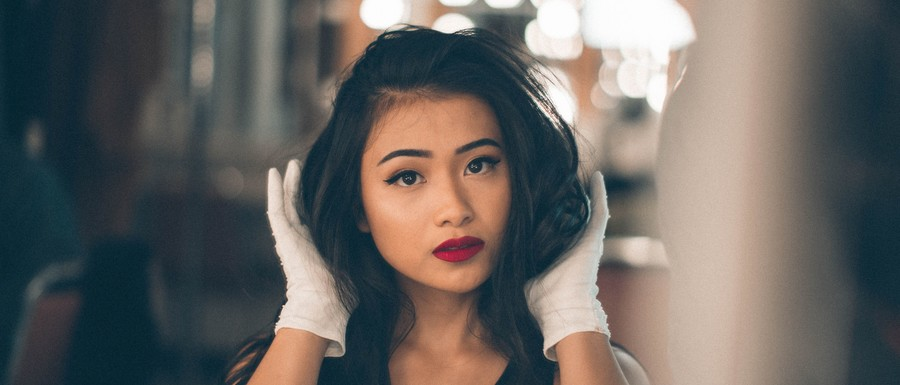bare: (361, 190, 525, 292)
